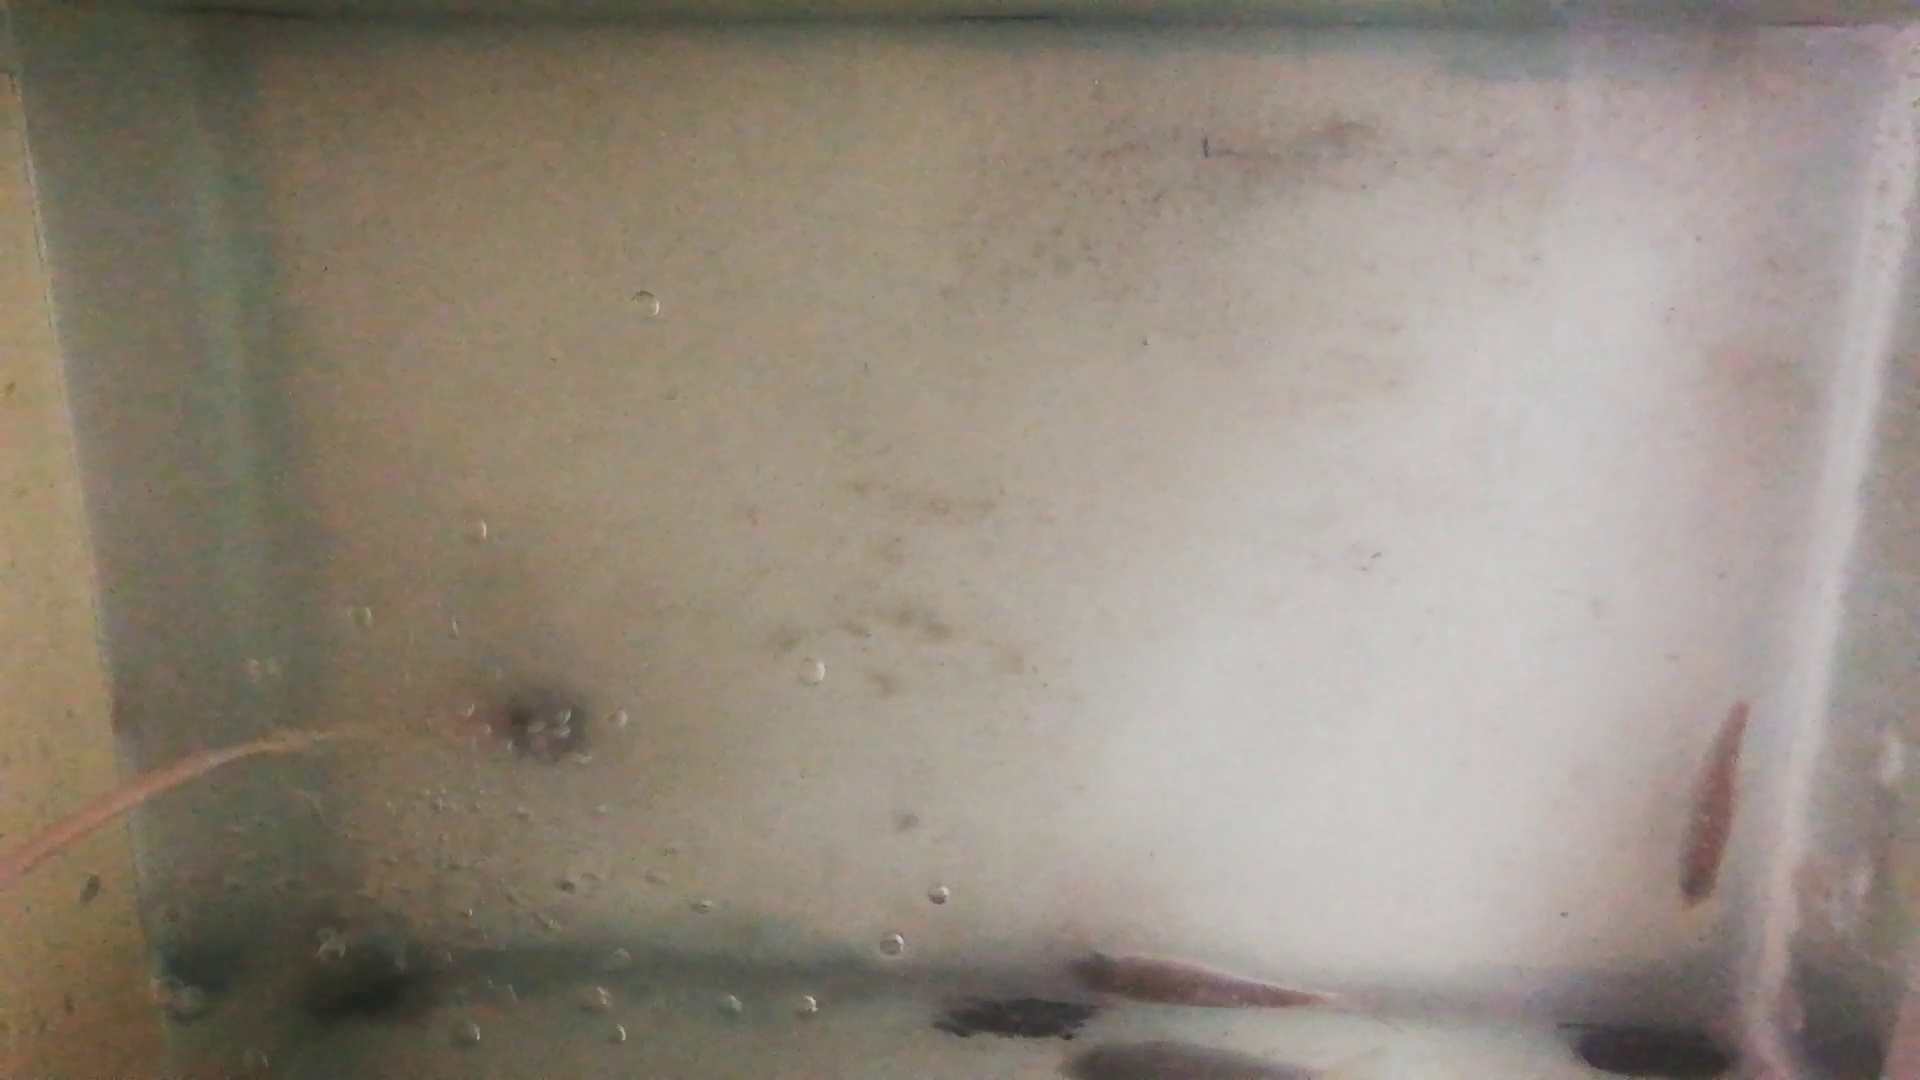fish: (1062, 948, 1338, 1011), (1673, 702, 1749, 906)
